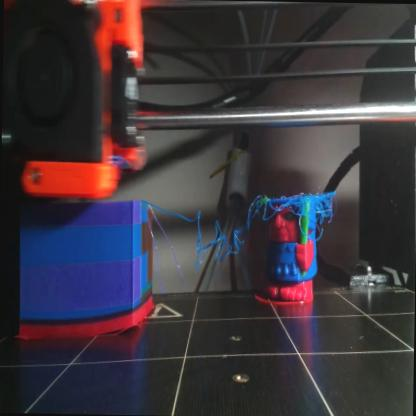fail: (249, 188, 335, 227), (185, 231, 243, 268)
